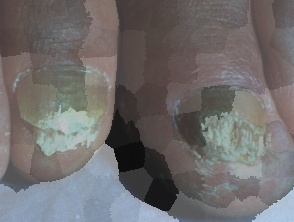Nail_psoriasis: (135, 40, 294, 222), (0, 24, 131, 181)
